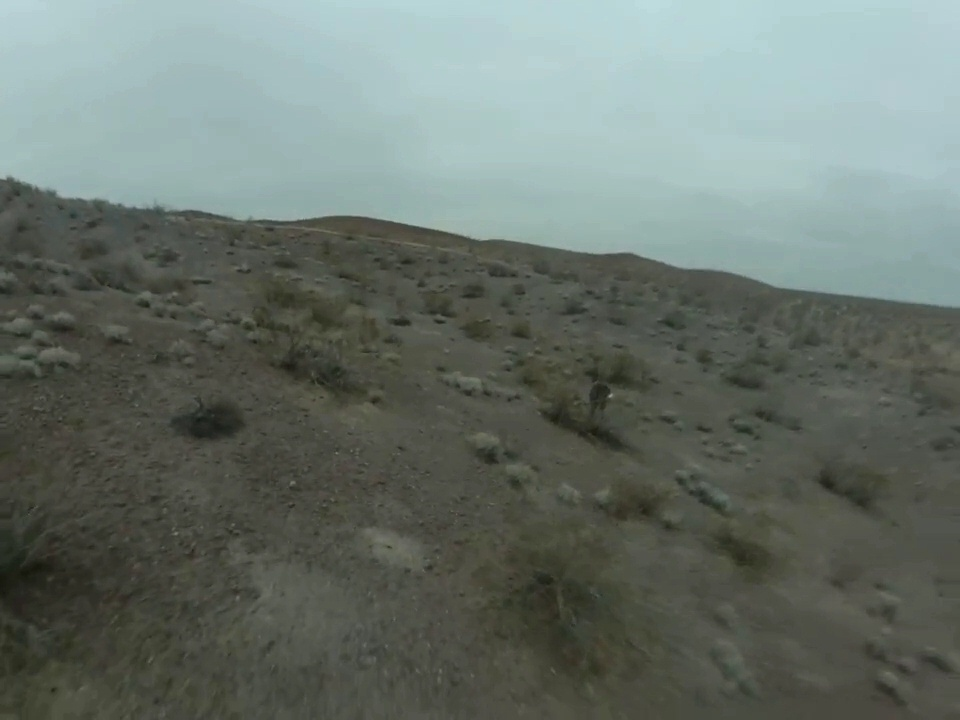insan: (583, 375, 611, 426)
